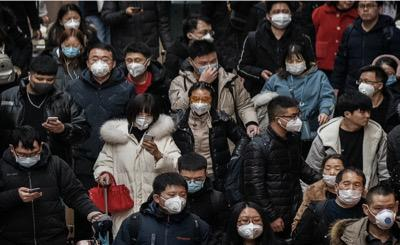mask_weared_incorrect: (322, 164, 343, 187)
with_mask: (370, 202, 396, 230), (236, 214, 264, 240), (159, 190, 188, 215), (336, 179, 362, 206), (189, 94, 212, 117), (90, 55, 113, 78), (194, 58, 219, 79), (13, 149, 41, 167), (180, 173, 205, 193), (31, 75, 55, 95), (125, 56, 146, 78), (270, 9, 291, 29), (192, 28, 215, 46), (285, 111, 303, 133), (134, 111, 153, 131), (285, 58, 307, 75), (358, 76, 374, 98), (62, 41, 80, 59), (63, 15, 81, 30), (382, 70, 396, 88)
without_mask: (357, 2, 377, 22), (353, 109, 370, 126)
